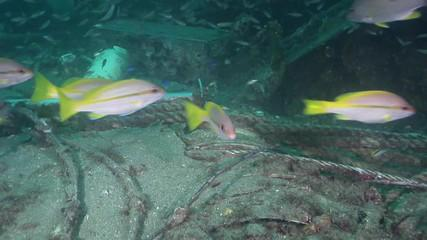Lutjanidae -Snappers-: (52, 75, 166, 121), (299, 84, 419, 127), (179, 93, 236, 142)
